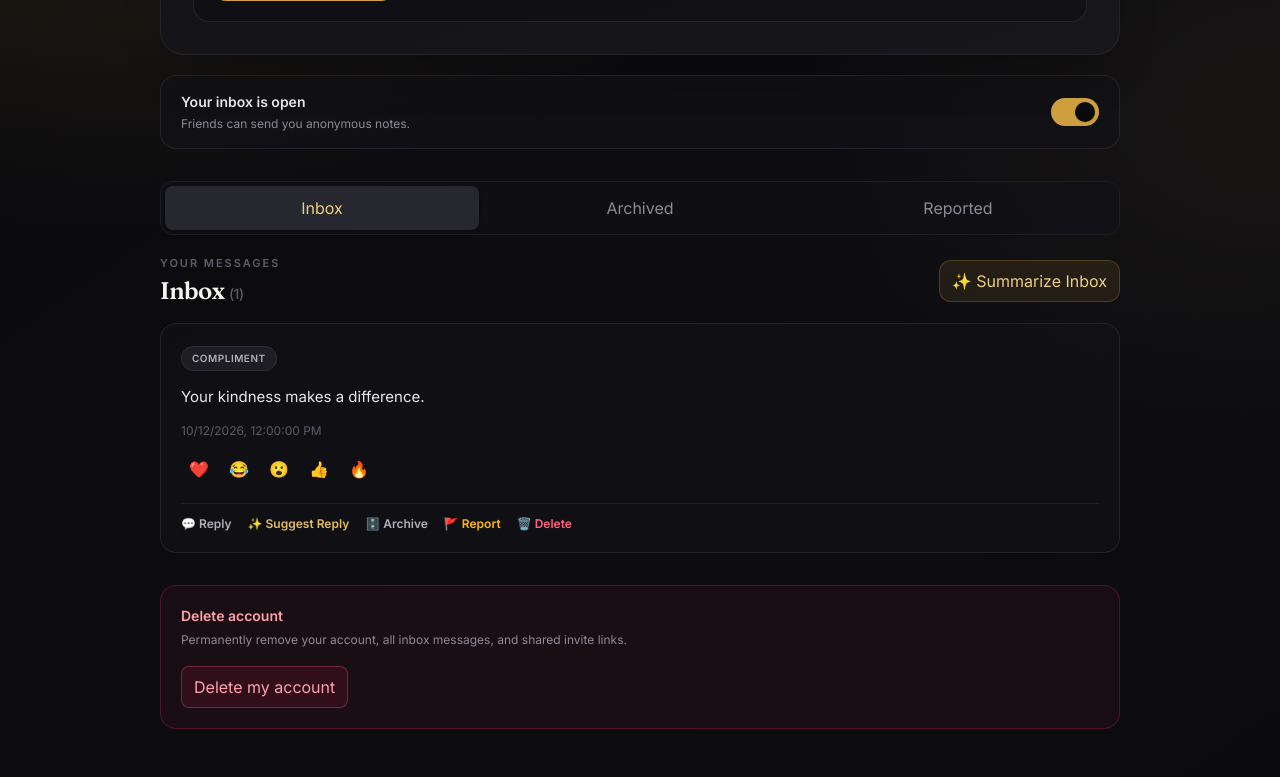
Scenario: inbox dashboard › shows AI suggestion failures
The image size is (1280, 777).
(page scrolled)
Expected: the text "Your kindness makes a difference." is shown, top-left (181, 387), bottom-right (425, 406)
Click the button "✨ Suggest Reply" at (298, 524), box top-left (248, 516), bottom-right (349, 532)
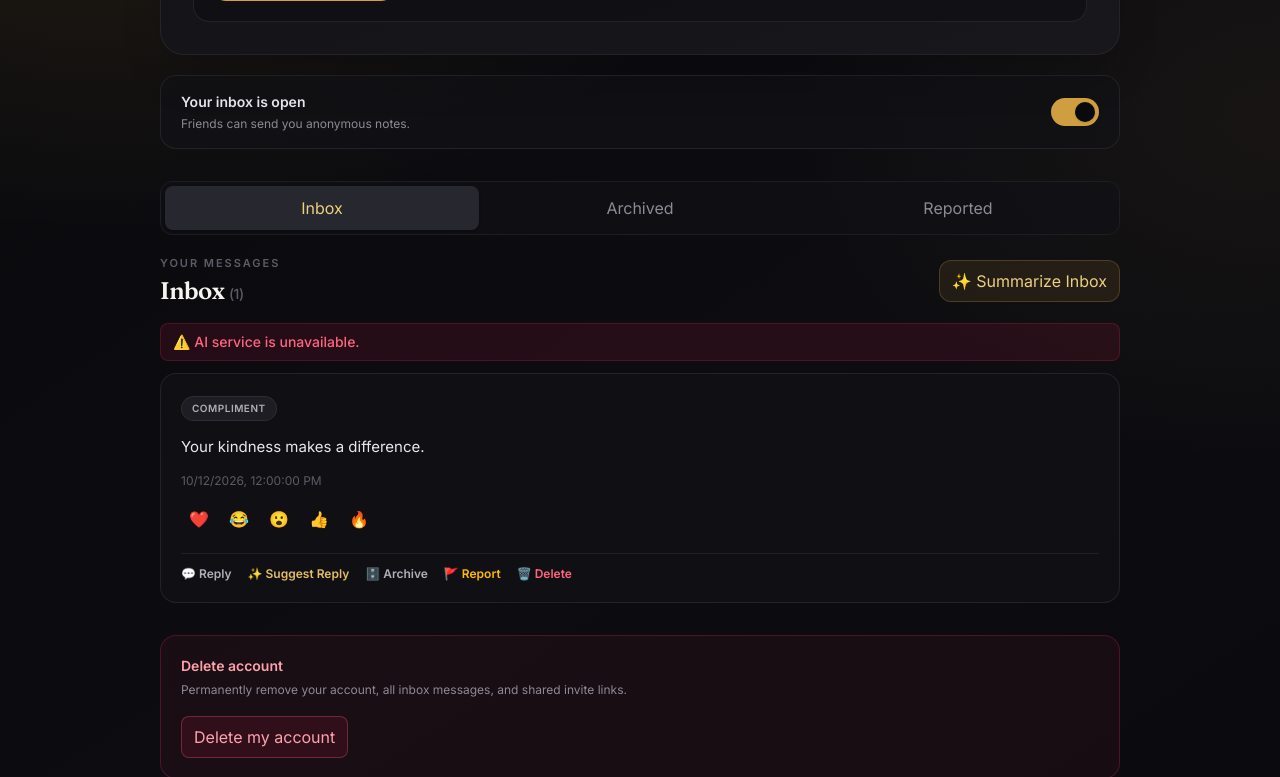
Now the text "⚠️ AI service is unavailable." is shown, box top-left (160, 323), bottom-right (1120, 361)
